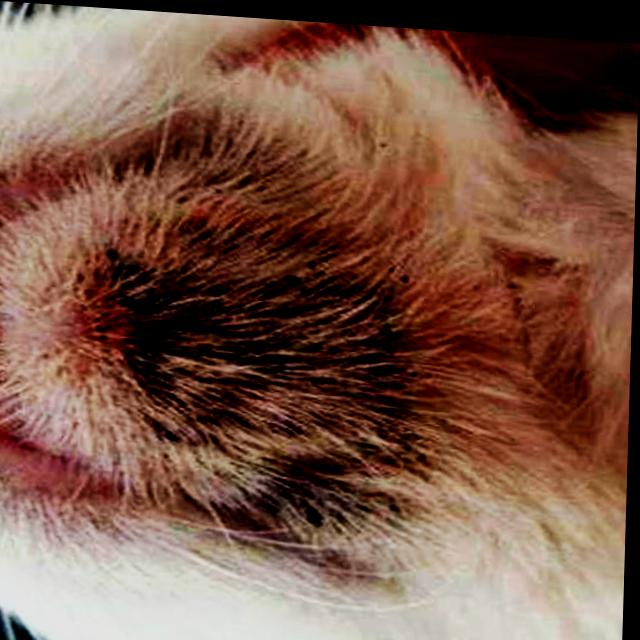acne: (113, 194, 434, 549)
